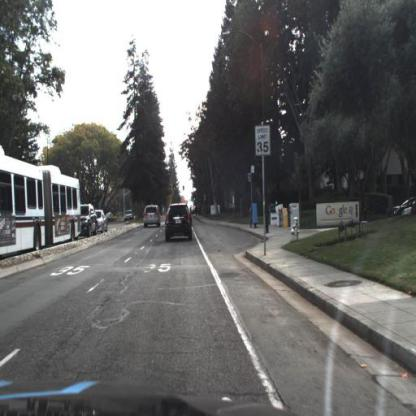car: (165, 202, 194, 243), (80, 202, 98, 242), (141, 202, 162, 229), (96, 209, 108, 233)
truck: (1, 146, 82, 258)
